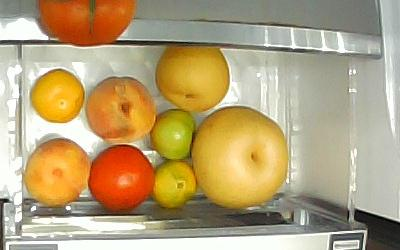peach: (84, 75, 156, 143), (23, 136, 91, 205)
pear: (189, 104, 288, 209), (153, 45, 230, 112)
tangerine: (29, 67, 85, 123), (150, 158, 197, 208)
tomato: (86, 142, 156, 212), (148, 107, 196, 160)
